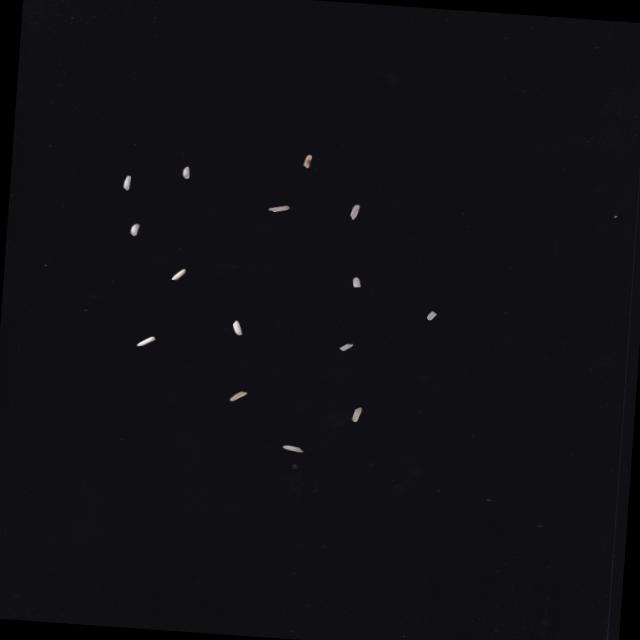Chalky: (128, 222, 138, 235), (122, 174, 130, 189), (182, 165, 188, 177)
Not: (135, 334, 154, 346), (170, 266, 185, 280), (230, 318, 242, 334), (228, 390, 246, 400), (268, 204, 288, 212), (350, 405, 360, 421), (349, 202, 358, 219), (302, 152, 311, 168), (282, 444, 302, 451), (338, 342, 352, 351), (425, 309, 436, 319), (352, 276, 361, 286)
